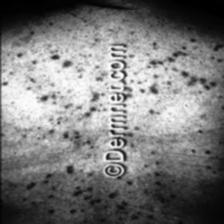Non-Cancerous Skin Condition: (128, 41, 220, 99), (24, 183, 35, 189), (66, 166, 72, 174), (38, 96, 46, 102), (72, 191, 80, 195), (63, 132, 68, 138)
